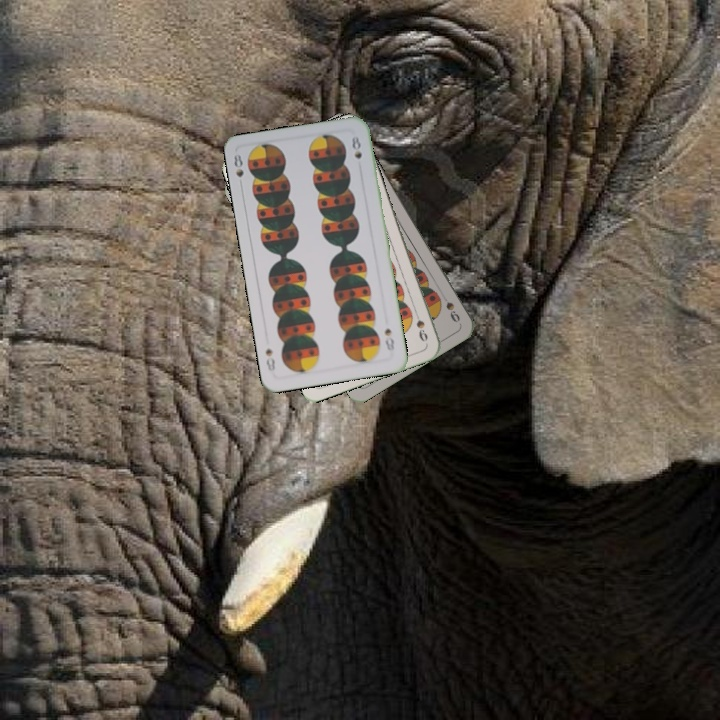S8: (230, 150, 246, 191), (380, 324, 397, 354)
S9: (436, 288, 463, 325), (410, 306, 430, 344)
